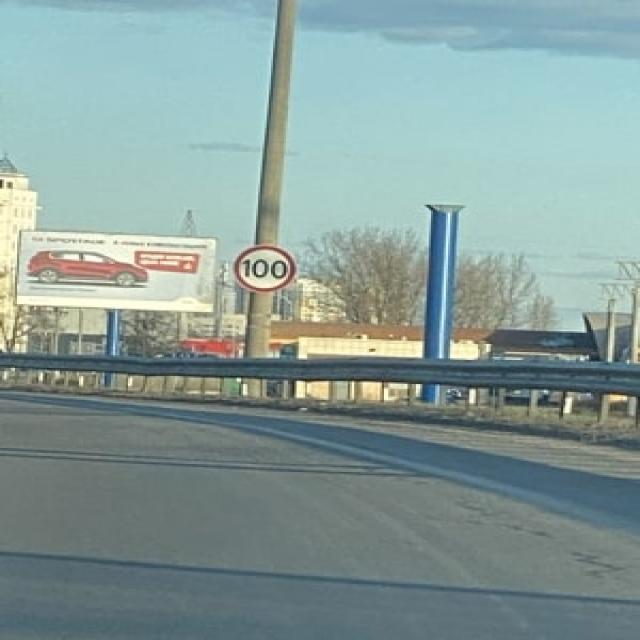Speed Limit -100-: (242, 259, 288, 279)
